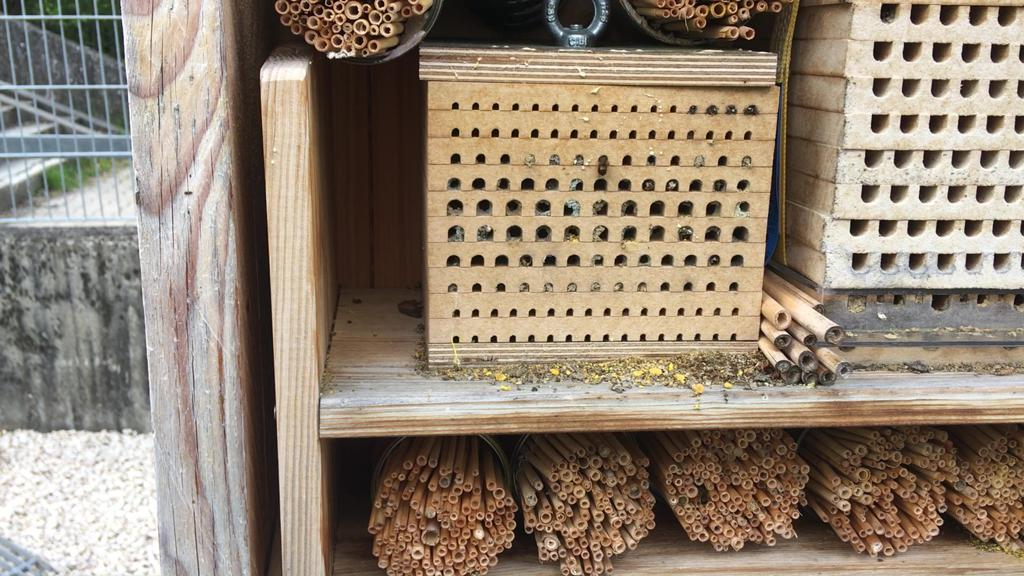bee: (591, 150, 616, 182)
